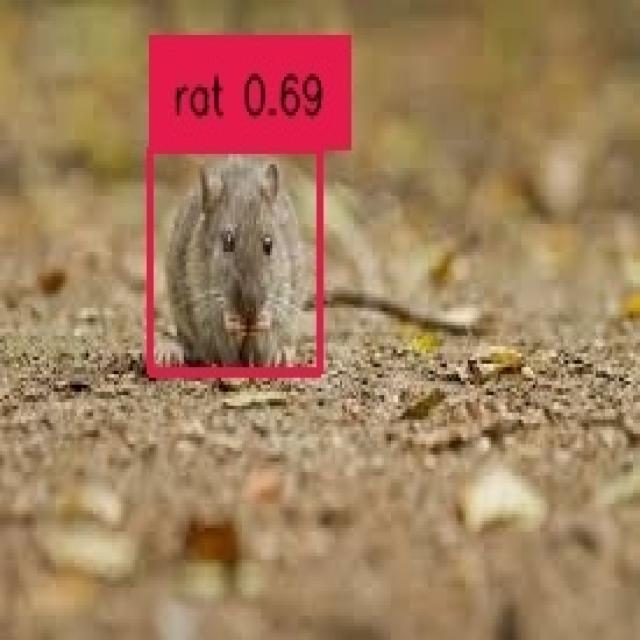rat: (146, 144, 316, 368)
